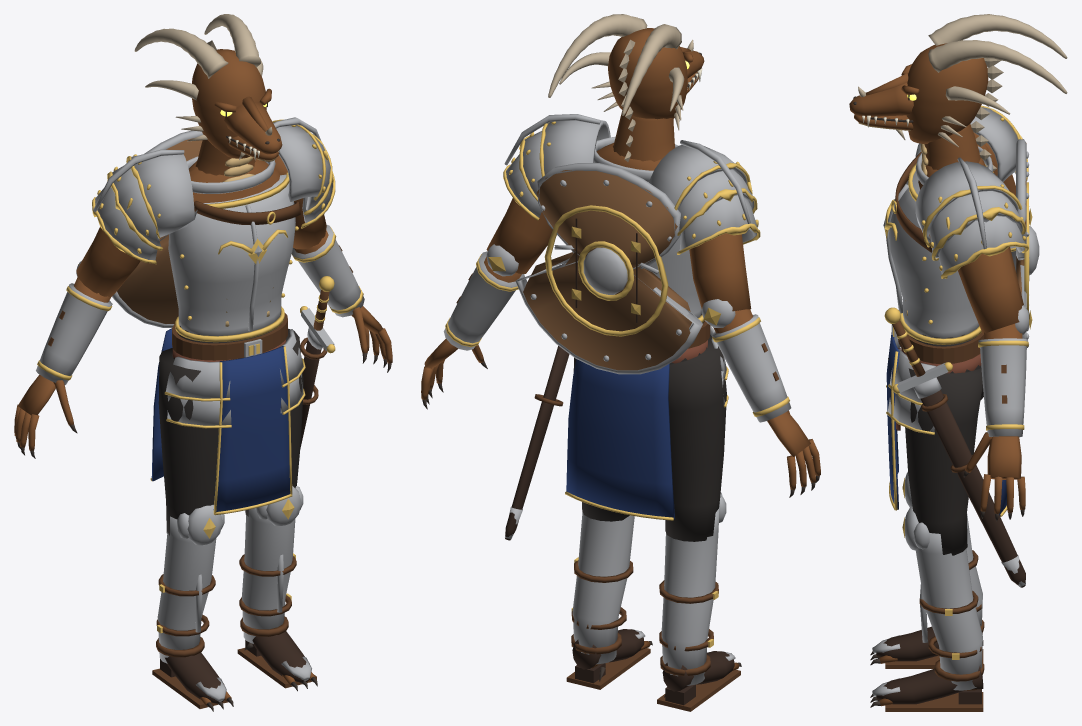
3 renders of one model, left to right at view 1: azimuth 30°, elevation 25°; view 2: azimuth 150°, elevation 25°; view 3: azimuth 270°, elevation 25°, orthographic. The views are drawn at different scales.
Visible parts, largest first — view 1: alt_dragonborn_knight__OW_Armor_KnightPlate_01_Chest, alt_dragonborn_knight__OW_Armor_KnightPlate_01_Legs, alt_dragonborn_knight__OW_Armor_KnightPlate_01_Shoulders, alt_dragonborn_knight__OW_Char_Dragonborn_01_Body_Head, alt_dragonborn_knight__OW_Armor_KnightPlate_01_Arms, alt_dragonborn_knight__OW_Armor_KnightPlate_01_Feet, alt_dragonborn_knight__OW_Armor_KnightPlate_01_Back, alt_dragonborn_knight__OW_Char_Dragonborn_01_Body_Arms, alt_dragonborn_knight__OW_Char_Dragonborn_01_Body_Hands, alt_dragonborn_knight__OW_Armor_KnightPlate_01_Weapon_Hip, alt_dragonborn_knight__OW_Char_Dragonborn_01_Body_Torso; view 2: alt_dragonborn_knight__OW_Armor_KnightPlate_01_Back, alt_dragonborn_knight__OW_Armor_KnightPlate_01_Legs, alt_dragonborn_knight__OW_Armor_KnightPlate_01_Chest, alt_dragonborn_knight__OW_Armor_KnightPlate_01_Shoulders, alt_dragonborn_knight__OW_Char_Dragonborn_01_Body_Head, alt_dragonborn_knight__OW_Armor_KnightPlate_01_Arms, alt_dragonborn_knight__OW_Char_Dragonborn_01_Body_Arms, alt_dragonborn_knight__OW_Armor_KnightPlate_01_Feet, alt_dragonborn_knight__OW_Char_Dragonborn_01_Body_Hands, alt_dragonborn_knight__OW_Armor_KnightPlate_01_Weapon_Hip, alt_dragonborn_knight__OW_Char_Dragonborn_01_Body_Torso; view 3: alt_dragonborn_knight__OW_Armor_KnightPlate_01_Legs, alt_dragonborn_knight__OW_Char_Dragonborn_01_Body_Head, alt_dragonborn_knight__OW_Armor_KnightPlate_01_Chest, alt_dragonborn_knight__OW_Armor_KnightPlate_01_Shoulders, alt_dragonborn_knight__OW_Armor_KnightPlate_01_Weapon_Hip, alt_dragonborn_knight__OW_Armor_KnightPlate_01_Feet, alt_dragonborn_knight__OW_Armor_KnightPlate_01_Arms, alt_dragonborn_knight__OW_Char_Dragonborn_01_Body_Arms, alt_dragonborn_knight__OW_Char_Dragonborn_01_Body_Hands, alt_dragonborn_knight__OW_Armor_KnightPlate_01_Back, alt_dragonborn_knight__OW_Char_Dragonborn_01_Body_Legs, alt_dragonborn_knight__OW_Char_Dragonborn_01_Body_Feet.
Boxes of the visible parts, <box> form: alt_dragonborn_knight__OW_Armor_KnightPlate_01_Chest: <box>150,156,300,515</box>; alt_dragonborn_knight__OW_Armor_KnightPlate_01_Legs: <box>156,313,305,663</box>; alt_dragonborn_knight__OW_Armor_KnightPlate_01_Shoulders: <box>92,117,335,264</box>; alt_dragonborn_knight__OW_Char_Dragonborn_01_Body_Head: <box>134,14,282,182</box>; alt_dragonborn_knight__OW_Armor_KnightPlate_01_Arms: <box>36,224,364,384</box>; alt_dragonborn_knight__OW_Armor_KnightPlate_01_Feet: <box>152,616,316,708</box>; alt_dragonborn_knight__OW_Armor_KnightPlate_01_Back: <box>112,130,202,327</box>; alt_dragonborn_knight__OW_Char_Dragonborn_01_Body_Arms: <box>74,155,328,302</box>; alt_dragonborn_knight__OW_Char_Dragonborn_01_Body_Hands: <box>14,306,392,458</box>; alt_dragonborn_knight__OW_Armor_KnightPlate_01_Weapon_Hip: <box>300,276,335,448</box>; alt_dragonborn_knight__OW_Char_Dragonborn_01_Body_Torso: <box>188,159,279,326</box>; alt_dragonborn_knight__OW_Armor_KnightPlate_01_Back: <box>515,163,702,374</box>; alt_dragonborn_knight__OW_Armor_KnightPlate_01_Legs: <box>571,314,728,685</box>; alt_dragonborn_knight__OW_Armor_KnightPlate_01_Chest: <box>565,136,710,520</box>; alt_dragonborn_knight__OW_Armor_KnightPlate_01_Shoulders: <box>503,114,760,254</box>; alt_dragonborn_knight__OW_Char_Dragonborn_01_Body_Head: <box>548,14,704,161</box>; alt_dragonborn_knight__OW_Armor_KnightPlate_01_Arms: <box>443,244,791,422</box>; alt_dragonborn_knight__OW_Char_Dragonborn_01_Body_Arms: <box>484,198,753,333</box>; alt_dragonborn_knight__OW_Armor_KnightPlate_01_Feet: <box>566,629,740,711</box>; alt_dragonborn_knight__OW_Char_Dragonborn_01_Body_Hands: <box>421,339,820,497</box>; alt_dragonborn_knight__OW_Armor_KnightPlate_01_Weapon_Hip: <box>505,346,569,540</box>; alt_dragonborn_knight__OW_Char_Dragonborn_01_Body_Torso: <box>596,143,675,170</box>; alt_dragonborn_knight__OW_Armor_KnightPlate_01_Legs: <box>886,334,983,690</box>; alt_dragonborn_knight__OW_Char_Dragonborn_01_Body_Head: <box>849,14,1067,175</box>; alt_dragonborn_knight__OW_Armor_KnightPlate_01_Chest: <box>883,146,1007,516</box>; alt_dragonborn_knight__OW_Armor_KnightPlate_01_Shoulders: <box>915,105,1028,278</box>; alt_dragonborn_knight__OW_Armor_KnightPlate_01_Weapon_Hip: <box>884,307,1025,587</box>; alt_dragonborn_knight__OW_Armor_KnightPlate_01_Feet: <box>872,620,984,711</box>; alt_dragonborn_knight__OW_Armor_KnightPlate_01_Arms: <box>978,208,1032,437</box>; alt_dragonborn_knight__OW_Char_Dragonborn_01_Body_Arms: <box>958,132,1023,339</box>; alt_dragonborn_knight__OW_Char_Dragonborn_01_Body_Hands: <box>963,432,1025,521</box>; alt_dragonborn_knight__OW_Armor_KnightPlate_01_Back: <box>1016,139,1039,347</box>; alt_dragonborn_knight__OW_Char_Dragonborn_01_Body_Legs: <box>896,348,981,430</box>; alt_dragonborn_knight__OW_Char_Dragonborn_01_Body_Feet: <box>870,651,976,707</box>.
Size of the model in its own units: 1.16 by 1.91 by 0.5766.
